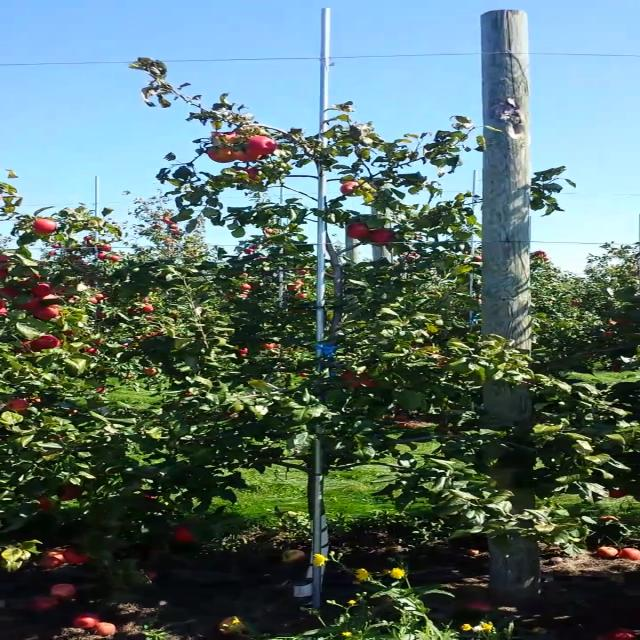apple: (246, 135, 276, 155), (66, 545, 93, 565), (168, 528, 198, 544), (207, 149, 236, 163), (347, 224, 373, 239), (32, 218, 57, 233), (34, 335, 60, 349), (235, 150, 265, 162), (372, 230, 397, 244), (30, 283, 52, 298), (16, 299, 42, 311), (212, 132, 238, 144), (240, 168, 265, 180), (22, 272, 43, 286), (36, 308, 60, 320), (59, 486, 78, 501), (43, 294, 61, 308), (341, 182, 359, 194), (6, 399, 26, 409), (350, 381, 375, 389), (0, 267, 16, 279), (1, 287, 20, 297), (343, 372, 364, 380), (21, 341, 34, 351), (1, 301, 8, 317), (38, 500, 51, 508), (613, 488, 623, 498), (1, 182, 8, 195), (0, 255, 12, 262)
